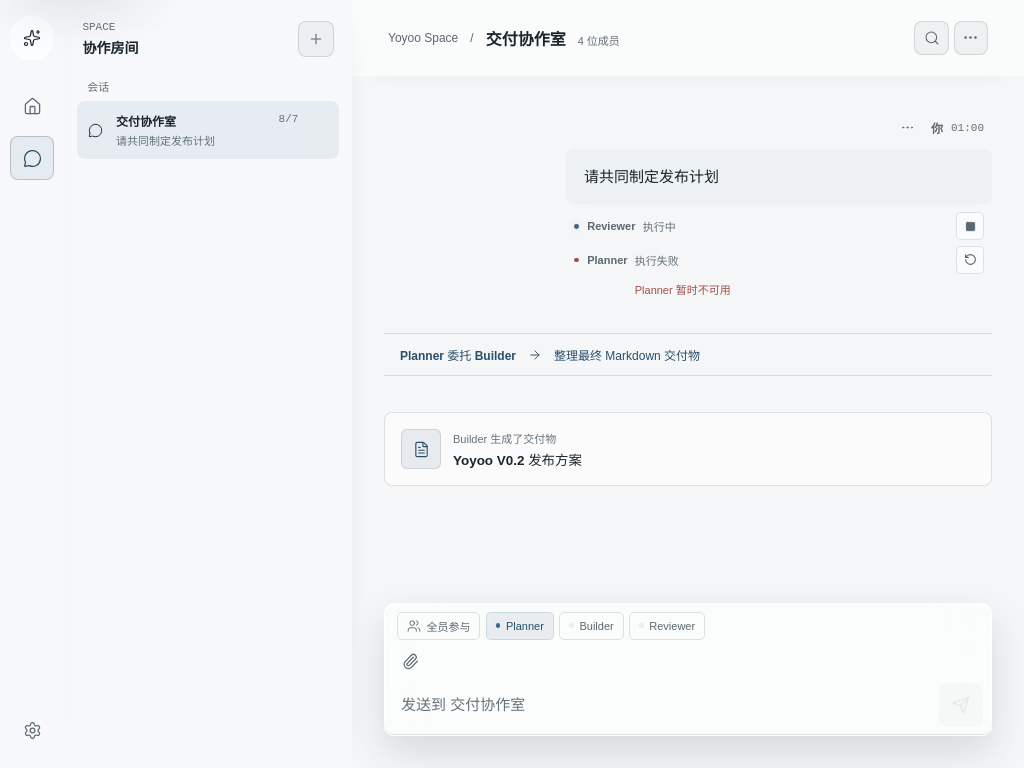
CollaborationRoom › creates a room from the room rail and enters its empty state
Expected: the heading "交付协作室" is shown, [486, 26, 566, 50]
Click the button named "新建房间".
click(316, 39)  # box [298, 21, 334, 57]
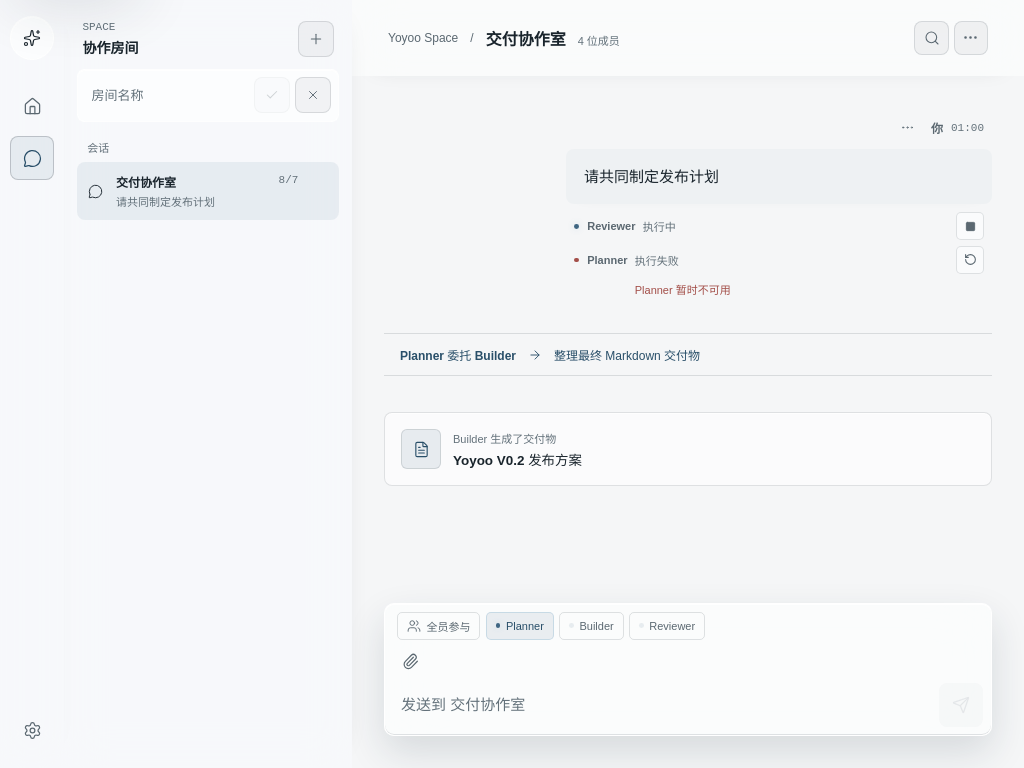
Type "架构讨论室" into the field labelled "房间名称".
click(167, 95); type("架构讨论室")  # box [85, 77, 249, 113]
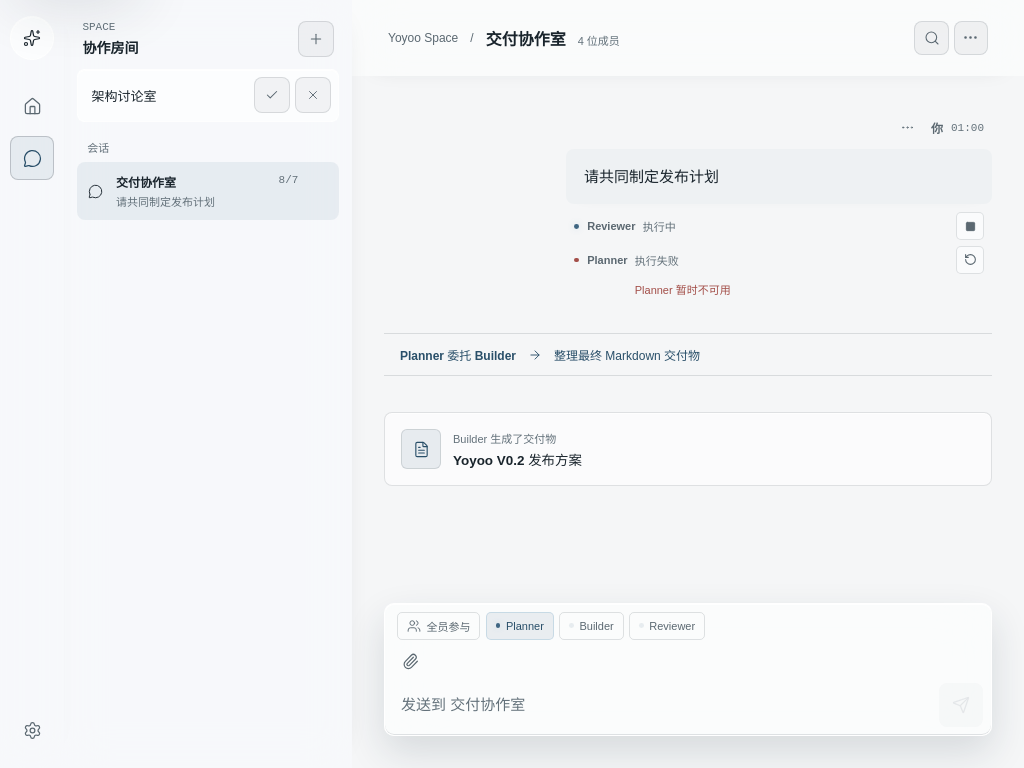
Click the button named "创建房间".
click(272, 95)  # box [254, 77, 290, 113]
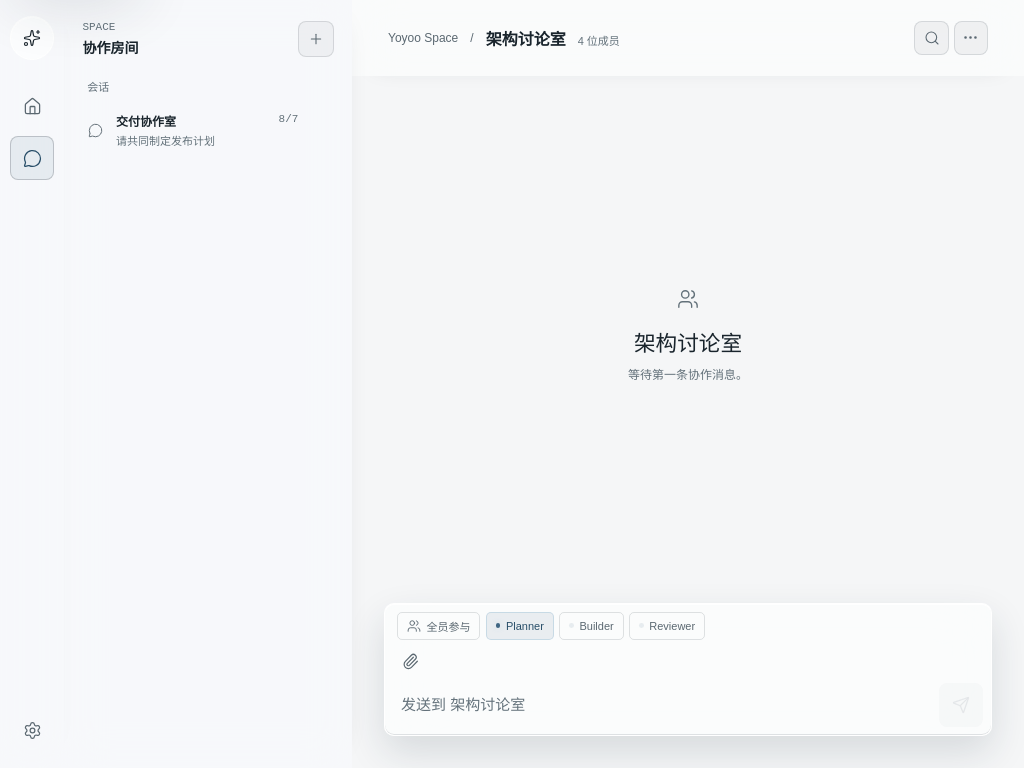
Now the heading "架构讨论室" in the row of "位成员" is shown, box [486, 26, 566, 50]
Now the text "等待第一条协作消息。" is shown, box [628, 365, 748, 382]
